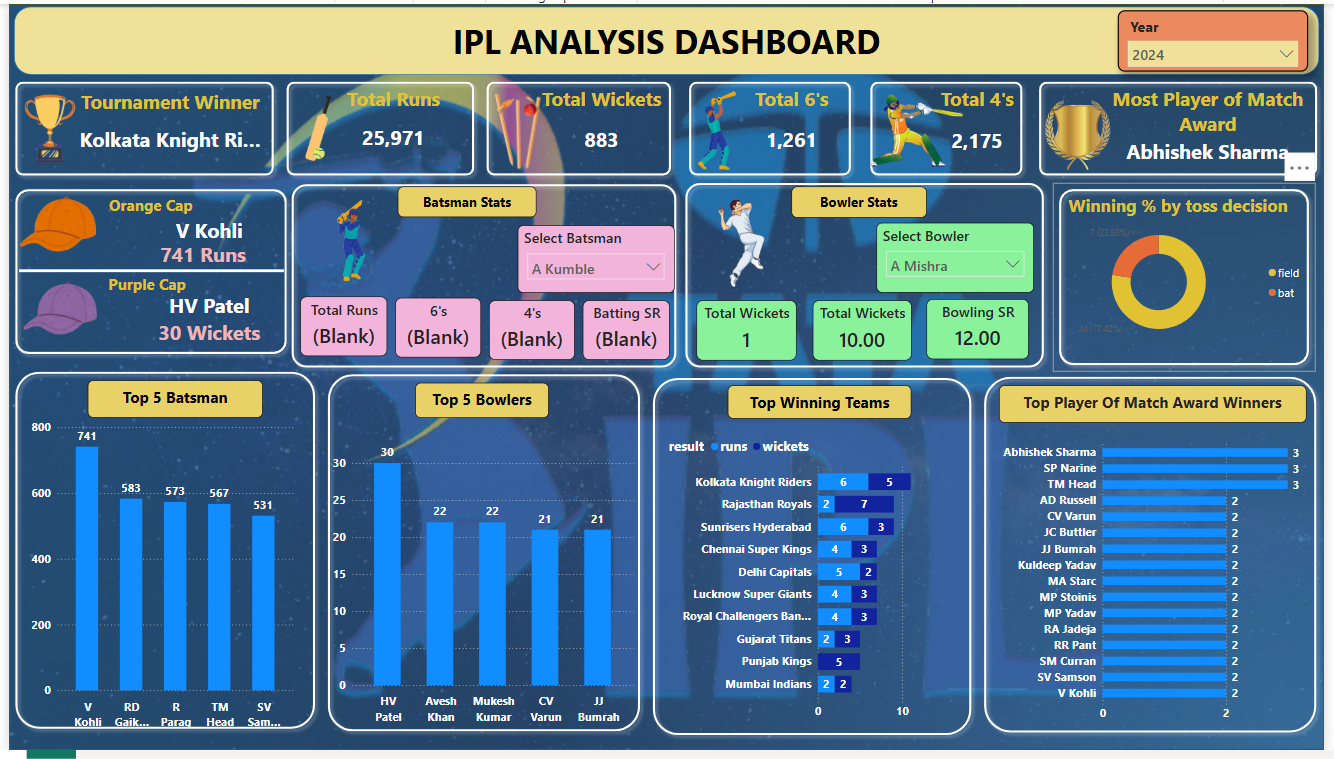

What the dashboard file says about the page in this screenshot:
{"tool":"powerbi","page":{"name":"Page 1","canvas":[1850,1050],"ordinal":0},"visuals":[{"type":"shape","box":[6.3,4.2,1837.1,95.9],"z":0},{"type":"shape","box":[1363.5,515.5,485.6,519],"z":1000},{"type":"shape","box":[0,508.5,439.8,520.8],"z":2000},{"type":"donutChart","title":"Winning % by toss decision","fields":{"Y":["matches.winner"],"Category":["matches.toss_decision"]},"box":[1461.1,267.5,370.4,216.1],"z":3000},{"type":"shape","box":[1469.1,251.6,369.5,265.7],"z":4000},{"type":"shape","box":[0,100.1,381.6,150.1],"z":5000},{"type":"shape","box":[382,100,282,150.1],"z":6000},{"type":"shape","box":[664,100,277.4,150.1],"z":7000},{"type":"shape","box":[1441.6,100,409.3,150.1],"z":8000},{"type":"shape","box":[948.2,100,245.6,150.1],"z":9000},{"type":"shape","box":[1202.9,100,231.9,150.1],"z":10000},{"type":"slicer","fields":{"Values":["Date_Table.Year"]},"box":[1560,8,268,86],"z":11000},{"type":"card","title":"Tournament Winner","fields":{"Values":["matches.TournamentWinner"]},"box":[91.5,119.6,270.9,109.1],"z":12000},{"type":"card","title":"Total Runs","fields":{"Values":["deliveries.total_runs"]},"box":[461,114.4,160.1,112.6],"z":13000},{"type":"card","title":"Total Wickets","fields":{"Values":["deliveries.is_wicket"]},"box":[744.2,114.4,179.5,117.9],"z":14000},{"type":"card","title":"Total 6''s","fields":{"Values":["deliveries.batsman_runs"]},"box":[1008.1,114.4,186.5,117.9],"z":15000},{"type":"card","title":"Total 4''s","fields":{"Values":["deliveries.batsman_runs"]},"box":[1273.8,114.4,177.7,121.4],"z":16000},{"type":"card","title":"Most Player of Match Award","fields":{"Values":["matches.player_of_match"]},"box":[1537.7,114.4,299.1,117.9],"z":17000},{"type":"shape","box":[0,252,400,250],"z":18000},{"type":"shape","box":[13.9,249.4,373,251.2],"z":19000},{"type":"textbox","box":[84.5,263.9,230.5,47.5],"z":20000},{"type":"textbox","box":[63.3,374.8,262.1,47.5],"z":21000},{"type":"card","fields":{"Values":["deliveries.batter"]},"box":[156.7,293.5,250.8,51.3],"z":22000},{"type":"card","fields":{"Values":["deliveries.Orange Cap Holder Runs"]},"box":[148.2,327.7,250.8,51.3],"z":23000},{"type":"card","fields":{"Values":["deliveries.bowler"]},"box":[156.7,399,250.8,51.3],"z":24000},{"type":"card","fields":{"Values":["deliveries.Purple Cap Holder Wickets"]},"box":[156.7,438.9,250.8,51.3],"z":25000},{"type":"shape","box":[388.8,244.6,559.5,276.2],"z":26000},{"type":"shape","box":[943,242.8,522.5,278],"z":27000},{"type":"slicer","title":"Select Batsman","fields":{"Values":["deliveries.batter"]},"box":[716.3,311.5,220.6,95.5],"z":28000},{"type":"card","title":"Total Runs","fields":{"Values":["deliveries.batsman_runs"]},"box":[409.3,411.6,122.8,84.1],"z":29000},{"type":"card","title":"6''s","fields":{"Values":["deliveries.batsman_runs"]},"box":[543.5,413.8,120.5,84.1],"z":30000},{"type":"card","title":"4''s","fields":{"Values":["deliveries.batsman_runs"]},"box":[675.3,416.1,120.5,84.1],"z":31000},{"type":"card","title":"Batting SR","fields":{"Values":["deliveries.Batsman Strike Rate"]},"box":[807.2,416.1,122.8,84.1],"z":32000},{"type":"slicer","title":"Select Bowler","fields":{"Values":["deliveries.bowler"]},"box":[1221,307.9,221.7,98.5],"z":33000},{"type":"card","title":"Total Wickets","fields":{"Values":["deliveries.is_wicket"]},"box":[967.7,417,140.8,84.5],"z":34000},{"type":"card","title":"Total Wickets","fields":{"Values":["deliveries.Bowler Economy"]},"box":[1131.3,417,139,84.5],"z":35000},{"type":"card","title":"Bowling SR","fields":{"Values":["deliveries.Bowler Strike Rate"]},"box":[1291.4,415.2,144.3,84.5],"z":36000},{"type":"textbox","box":[548,256.9,195.6,43.2],"z":37000},{"type":"textbox","box":[1101.4,256.9,190,44],"z":38000},{"type":"columnChart","title":"Top 5  Batsman ","fields":{"Y":["deliveries.batsman_runs"],"Category":["deliveries.batter"]},"box":[26.4,578.8,380,450.4],"z":39000},{"type":"shape","box":[439.8,512,457.4,520.8],"z":40000},{"type":"columnChart","title":"Top 5  Bowler","fields":{"Category":["deliveries.bowler"],"Y":["deliveries.is_wicket"]},"box":[450.2,604.5,434.7,416.7],"z":41000},{"type":"textbox","box":[571.8,533.1,188.3,49.3],"z":42000},{"type":"textbox","box":[110.8,529.6,246.3,52.8],"z":43000},{"type":"shape","box":[897.3,517.3,466.2,520.8],"z":44000},{"type":"barChart","fields":{"Category":["matches.winner"],"Y":["matches.winner"],"Series":["matches.result"]},"box":[923.7,600,408.2,417],"z":45000},{"type":"textbox","box":[1011.7,536.6,258.6,47.5],"z":46000},{"type":"barChart","fields":{"Category":["matches.player_of_match"],"Y":["matches.player_of_match"]},"box":[1393.4,603.5,432.8,417],"z":47000},{"type":"textbox","box":[1393.4,536.6,432.8,52.8],"z":48000},{"type":"image","box":[11.4,250.1,120.5,122.8],"z":49000},{"type":"image","box":[13.6,368.4,118.2,122.8],"z":50000},{"type":"image","box":[372.9,102.3,125.1,145.5],"z":51000},{"type":"image","box":[0,113.7,116,122.8],"z":52000},{"type":"image","box":[645.8,113.7,141,136.4],"z":53000},{"type":"image","box":[1202.9,102.3,150.1,159.2],"z":54000},{"type":"image","box":[932.3,113.7,131.9,127.3],"z":55000},{"type":"image","box":[1441.6,113.7,131.9,145.5],"z":56000},{"type":"image","box":[409.9,263.9,133.7,139],"z":57000},{"type":"image","box":[960.6,270.9,140.8,132],"z":58000}]}

Visuals, with their boxes in screenshot pixels (x1, y1, x2, y2), scaled from the page's 1850x1050 canvas onto the 1334x759 screenshot:
shape: (5,3,1329,72)
shape: (983,373,1333,748)
shape: (0,368,317,744)
"Winning % by toss decision" donutChart: (1054,193,1321,350)
shape: (1059,182,1326,374)
shape: (0,72,275,181)
shape: (275,72,479,181)
shape: (479,72,679,181)
shape: (1040,72,1333,181)
shape: (684,72,861,181)
shape: (867,72,1035,181)
slicer - Date_Table.Year: (1125,6,1318,68)
"Tournament Winner" card: (66,86,261,165)
"Total Runs" card: (332,83,448,164)
"Total Wickets" card: (537,83,666,168)
"Total 6''s" card: (727,83,861,168)
"Total 4''s" card: (919,83,1047,170)
"Most Player of Match Award" card: (1109,83,1324,168)
shape: (0,182,288,363)
shape: (10,180,279,362)
textbox: (61,191,227,225)
textbox: (46,271,235,305)
card - deliveries.batter: (113,212,294,249)
card - deliveries.Orange Cap Holder Runs: (107,237,288,274)
card - deliveries.bowler: (113,288,294,326)
card - deliveries.Purple Cap Holder Wickets: (113,317,294,354)
shape: (280,177,684,376)
shape: (680,176,1057,376)
"Select Batsman" slicer: (517,225,676,294)
"Total Runs" card: (295,298,384,358)
"6''s" card: (392,299,479,360)
"4''s" card: (487,301,574,362)
"Batting SR" card: (582,301,671,362)
"Select Bowler" slicer: (880,223,1040,294)
"Total Wickets" card: (698,301,799,363)
"Total Wickets" card: (816,301,916,363)
"Bowling SR" card: (931,300,1035,361)
textbox: (395,186,536,217)
textbox: (794,186,931,218)
"Top 5  Batsman " columnChart: (19,418,293,744)
shape: (317,370,647,747)
"Top 5  Bowler" columnChart: (325,437,638,738)
textbox: (412,385,548,421)
textbox: (80,383,257,421)
shape: (647,374,983,750)
barChart - matches.winner x matches.winner: (666,434,960,735)
textbox: (730,388,916,422)
barChart - matches.player_of_match x matches.player_of_match: (1005,436,1317,738)
textbox: (1005,388,1317,426)
image: (8,181,95,270)
image: (10,266,95,355)
image: (269,74,359,179)
image: (0,82,84,171)
image: (466,82,567,181)
image: (867,74,976,189)
image: (672,82,767,174)
image: (1040,82,1135,187)
image: (296,191,392,291)
image: (693,196,794,291)
